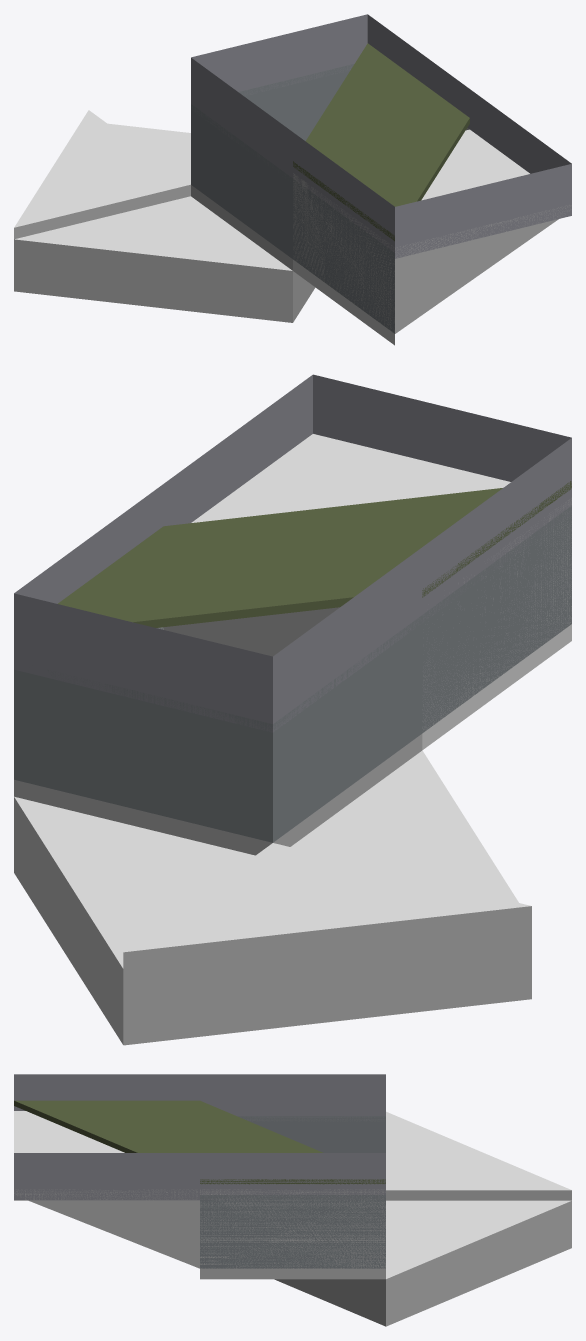
File: pt-109-tanque-0002-v00.glb
3 renders of one model, top to bottom at view 1: azimuth 30°, elevation 25°; view 2: azimuth 150°, elevation 25°; view 3: azimuth 270°, elevation 25°, orthographic. The views are drawn at different scales.
Bounding box in the file's own units: 16 × 8.25 × 24.
